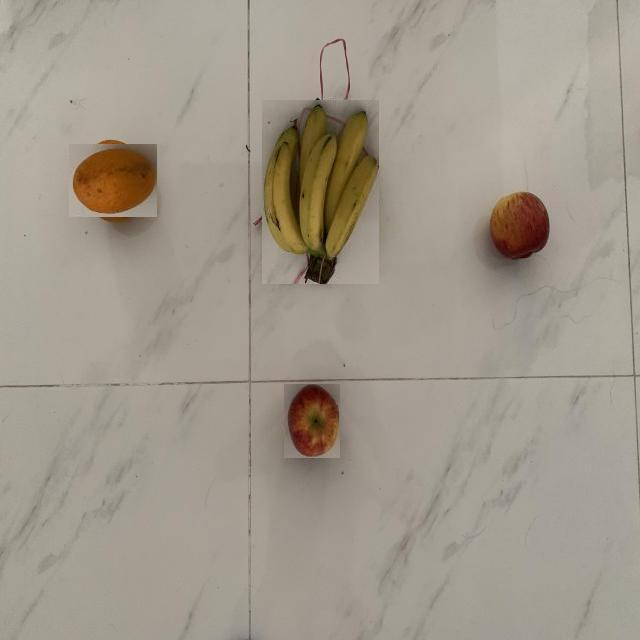Apple: (487, 191, 553, 263), (283, 383, 340, 458)
Banana: (261, 99, 379, 284)
Orange: (69, 143, 157, 217)
